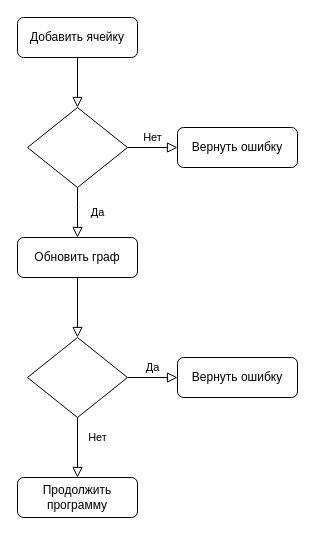
Image size: 315x535. Some labels were removed from this diagram. The centre of each missing label's shape, as x and y in pixels:
"Позиция валидна?" goes at point (77, 147).
"Циклическая зависимость?" goes at point (77, 377).
